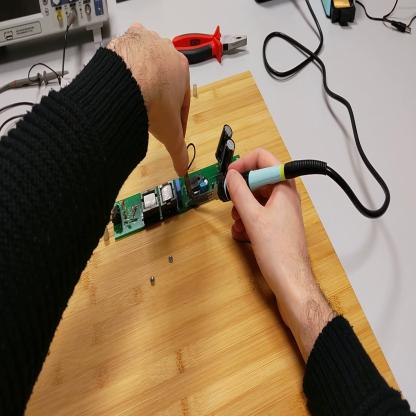hand: (226, 147, 315, 305), (109, 25, 191, 179)
high voltage board: (112, 125, 241, 241)
oscilloscope: (2, 2, 109, 54)
oscilloscope probe tip: (6, 67, 69, 94)
pliers: (175, 24, 249, 66), (186, 179, 195, 199)
welder base: (322, 3, 357, 30)
welder probe tip: (187, 161, 328, 206)
working area: (26, 73, 405, 416)
